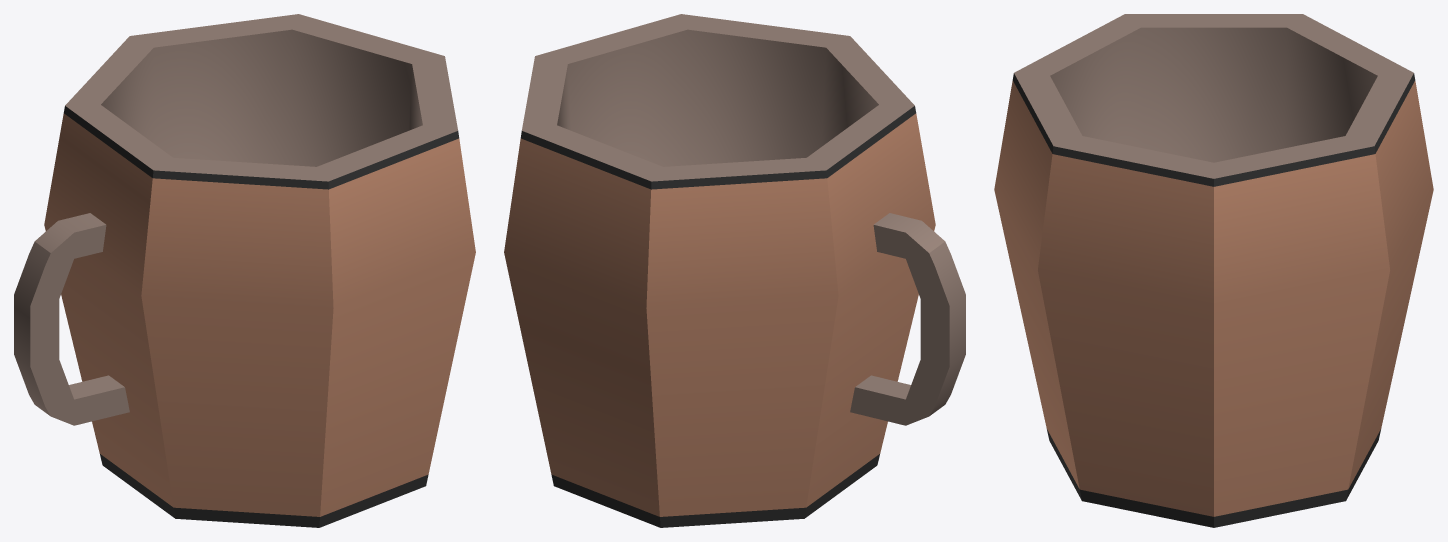
The model's file is Mug_Coffee.fbx.
3 renders of one model, left to right at view 1: azimuth 30°, elevation 25°; view 2: azimuth 150°, elevation 25°; view 3: azimuth 270°, elevation 25°, orthographic.
Visible parts, largest first — view 1: Mug; view 2: Mug; view 3: Mug.
Part boxes in pixels (left/top/right/bottom): Mug: left=14, top=14, right=475, bottom=527; Mug: left=504, top=14, right=965, bottom=527; Mug: left=994, top=14, right=1433, bottom=527.
Size of the model in its own units: 14.88 by 11.7 by 12.81.
